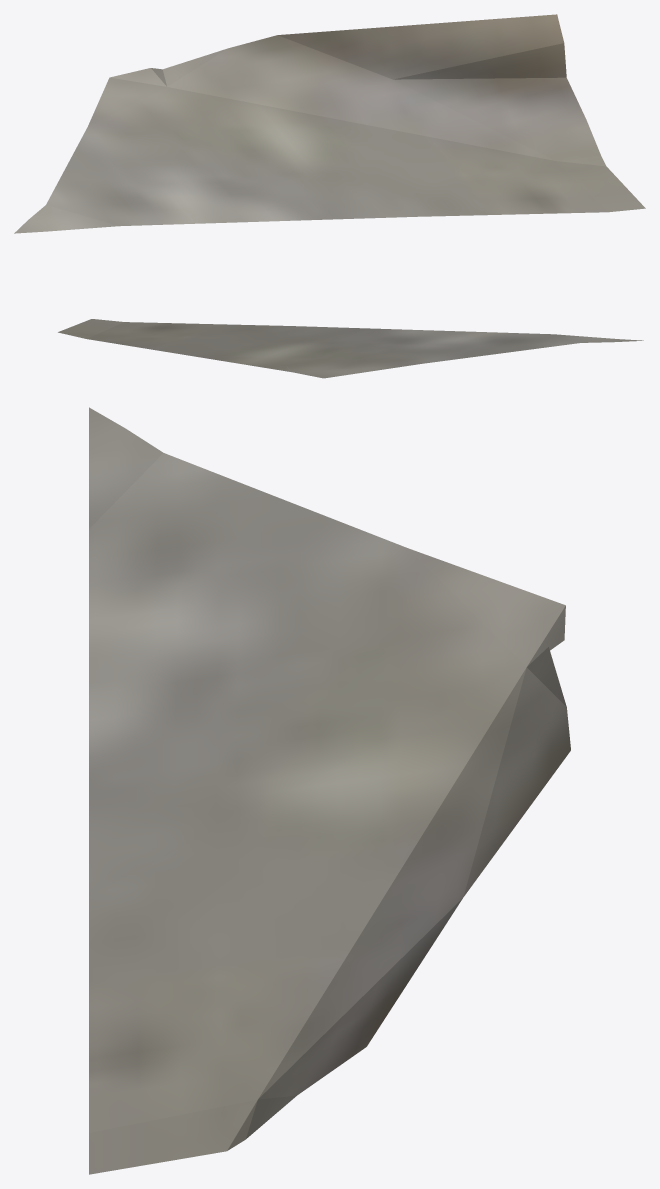
3 views of the same model, one above another, from view 1: azimuth 30°, elevation 25°; view 2: azimuth 150°, elevation 25°; view 3: azimuth 270°, elevation 25° (orthographic). The views are drawn at different scales.
Size of the model in its own units: 0.1964 by 0.0384 by 0.074.
Materials: 1 (1 with a texture image).
